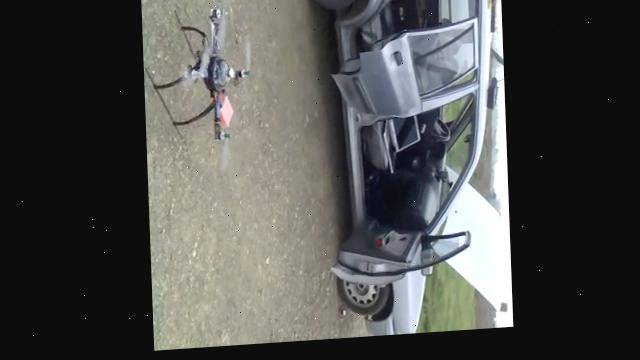drone: (141, 0, 258, 182)
